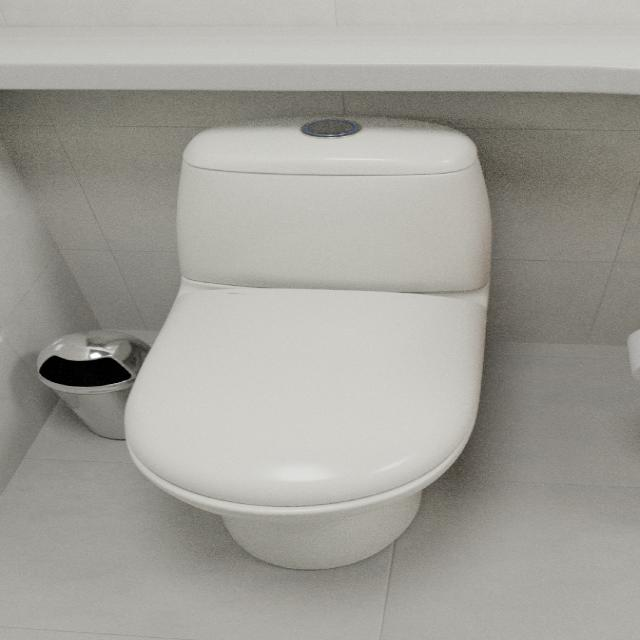toilet: (122, 114, 492, 570)
